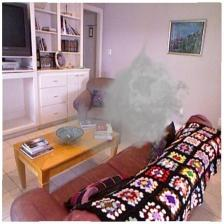fire: (48, 37, 196, 162)
